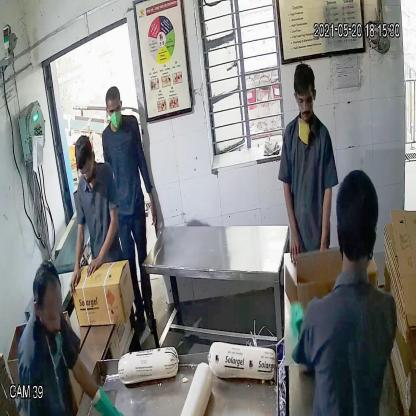no_goggles: (295, 86, 319, 110)
